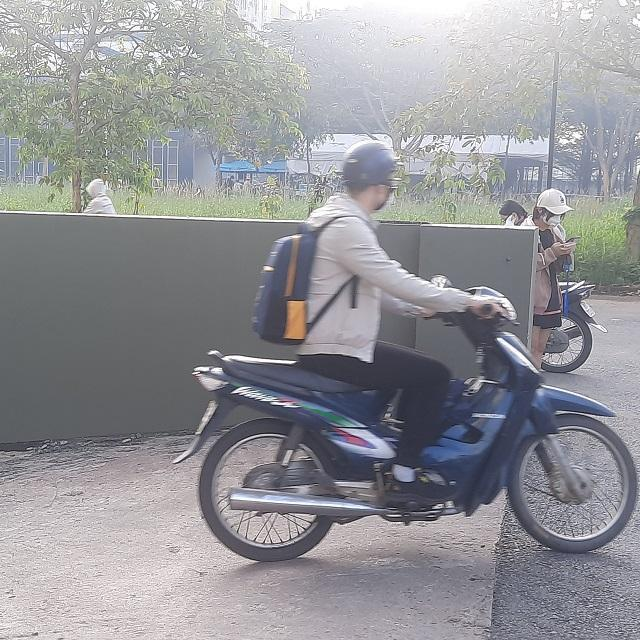Helmet: (338, 138, 407, 206)
